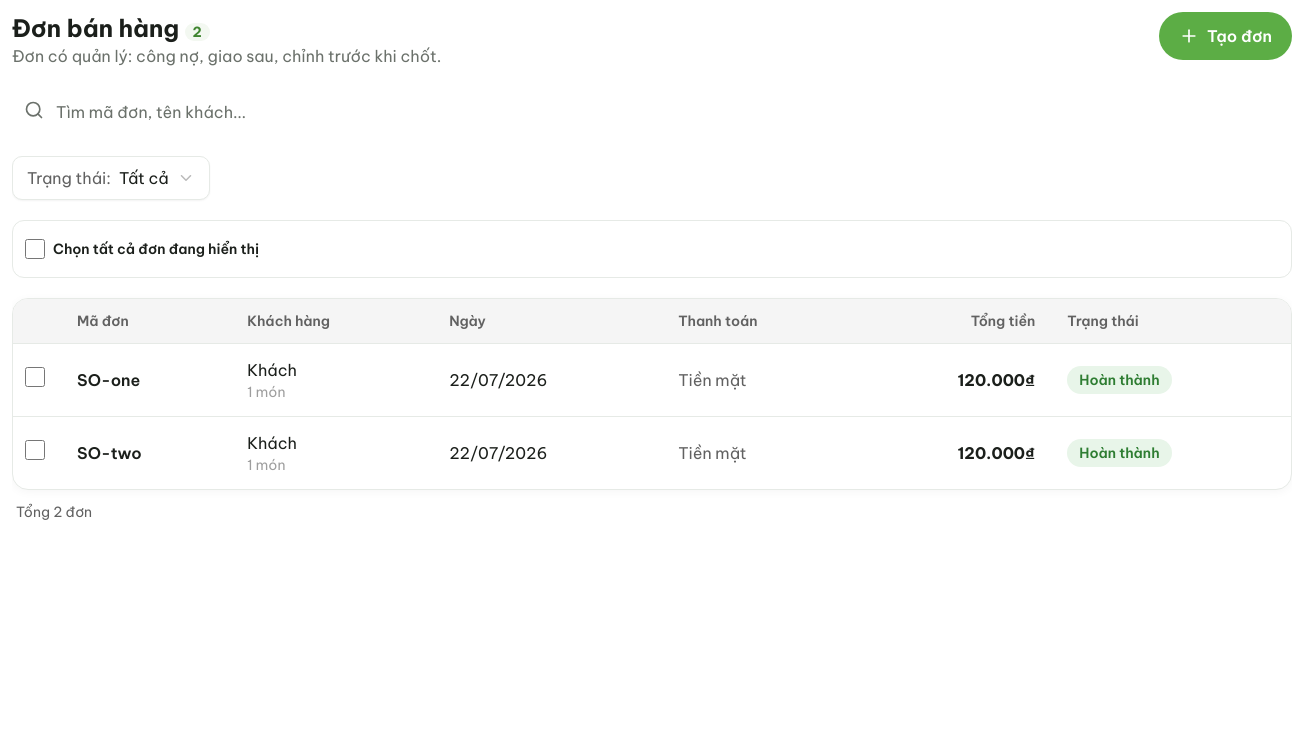
Test case: OrderList › selects all visible orders and lets the seller clear the selection
Click the checkbox labelled "Chọn tất cả đơn đang hiển thị" at [35, 249], box x1=25 y1=239 x2=45 y2=259
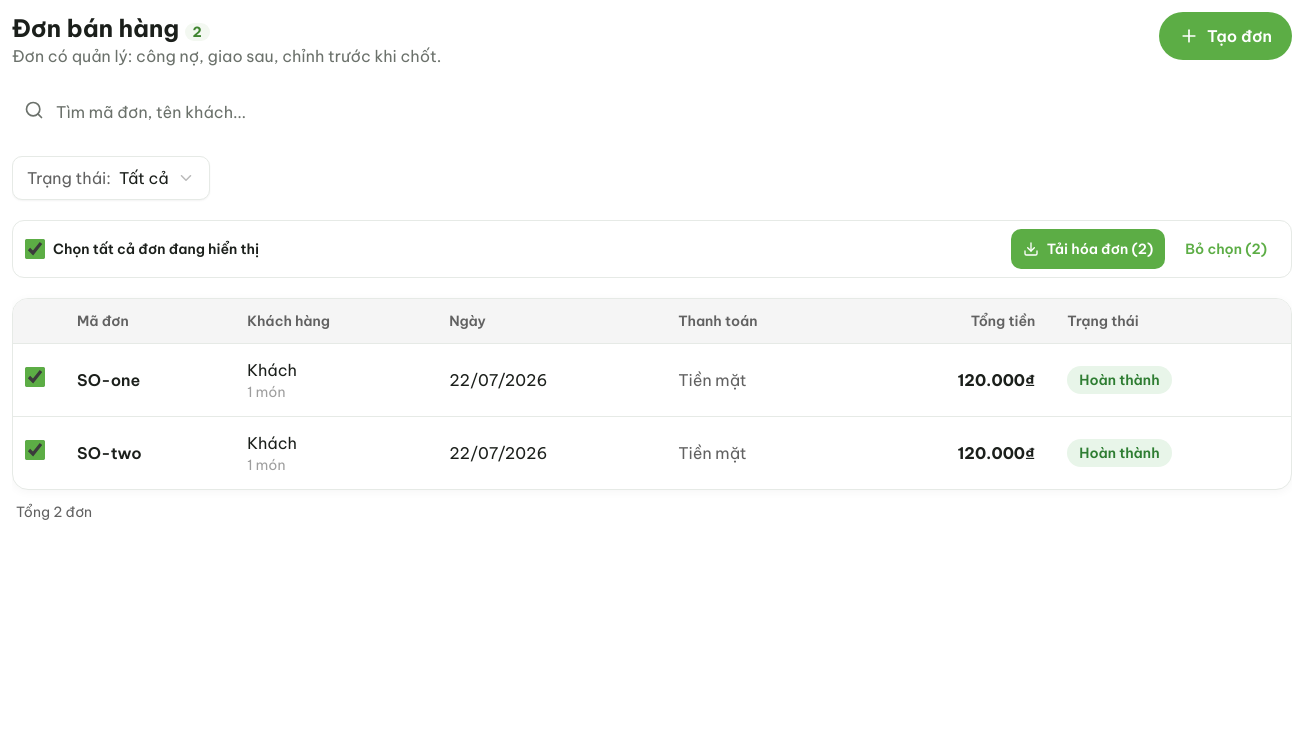
Now the button "Bỏ chọn (2)" is shown
Click the button "Bỏ chọn (2)" at [1226, 249], box x1=1173 y1=229 x2=1279 y2=269
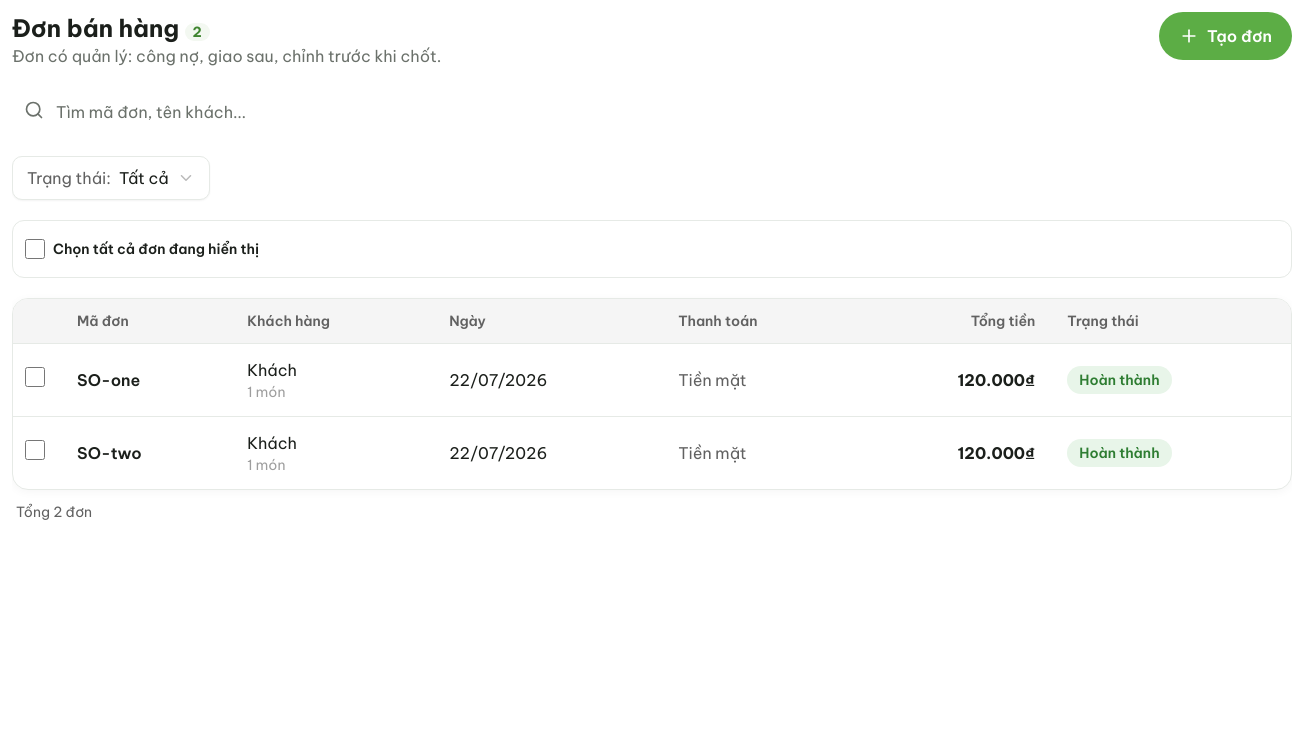
Now the button "Bỏ chọn (2)" is gone
